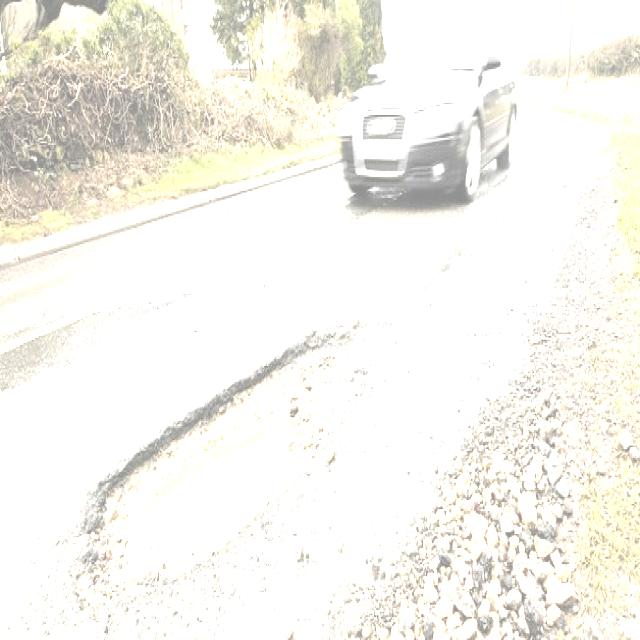Pothole: (76, 317, 395, 597)
